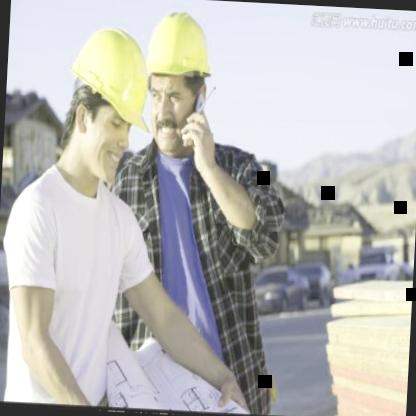helmet: (49, 18, 154, 178), (140, 5, 222, 166)
